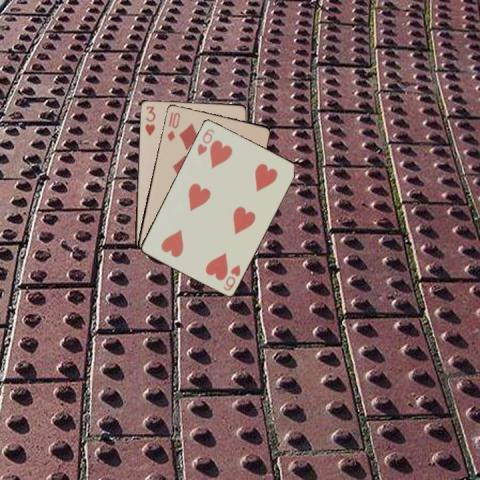10d: (164, 109, 181, 143)
3h: (142, 104, 157, 138)
6h: (194, 125, 216, 157), (220, 261, 242, 292)
